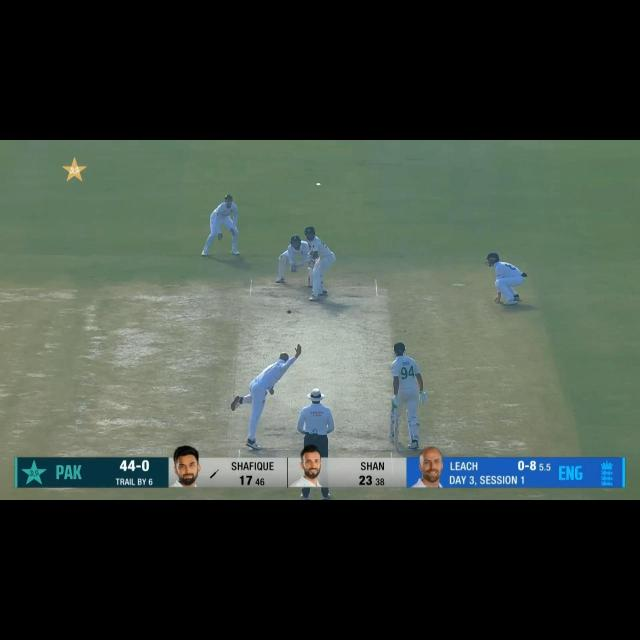bat: (390, 413, 397, 443), (307, 241, 311, 250)
toe: (390, 434, 396, 442)
